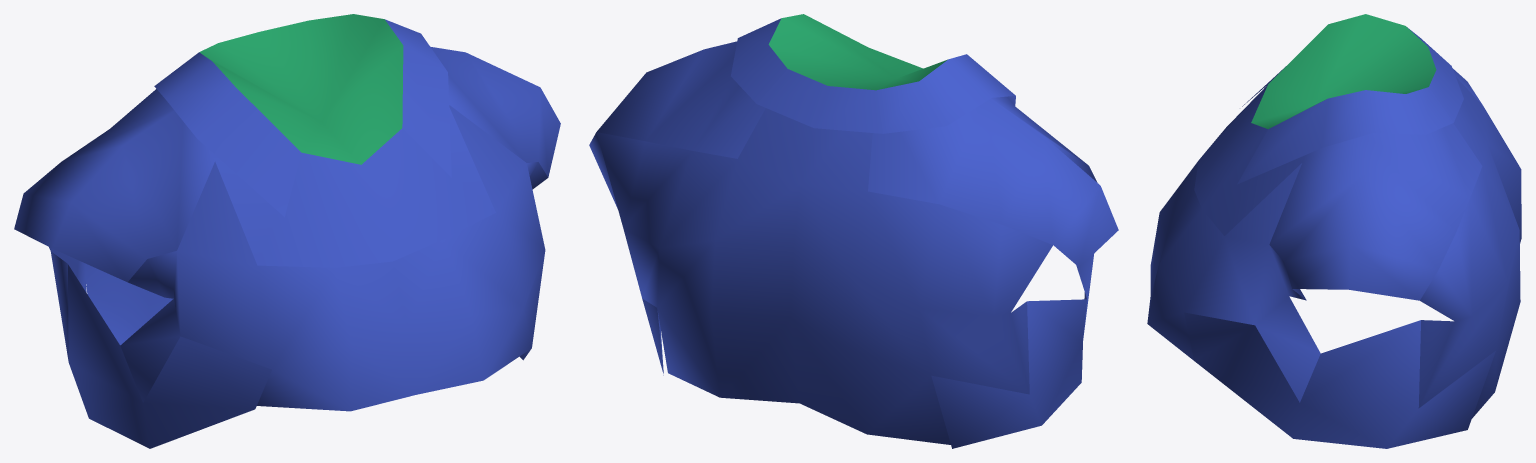
The model's file is spine2.glb.
3 renders of one model, left to right at view 1: azimuth 30°, elevation 25°; view 2: azimuth 150°, elevation 25°; view 3: azimuth 270°, elevation 25°, orthographic. The views are drawn at different scales.
Visible parts, largest first — view 1: polo-blue_SPINE2; view 2: polo-blue_SPINE2; view 3: polo-blue_SPINE2.
Boxes of the visible parts, bbox=[...] form: polo-blue_SPINE2: bbox=[14, 14, 560, 448]; polo-blue_SPINE2: bbox=[589, 14, 1118, 448]; polo-blue_SPINE2: bbox=[1147, 14, 1521, 448].
Bounding box in the file's own units: 0.4737 × 0.3067 × 0.333.
1 material, 1 textured.
